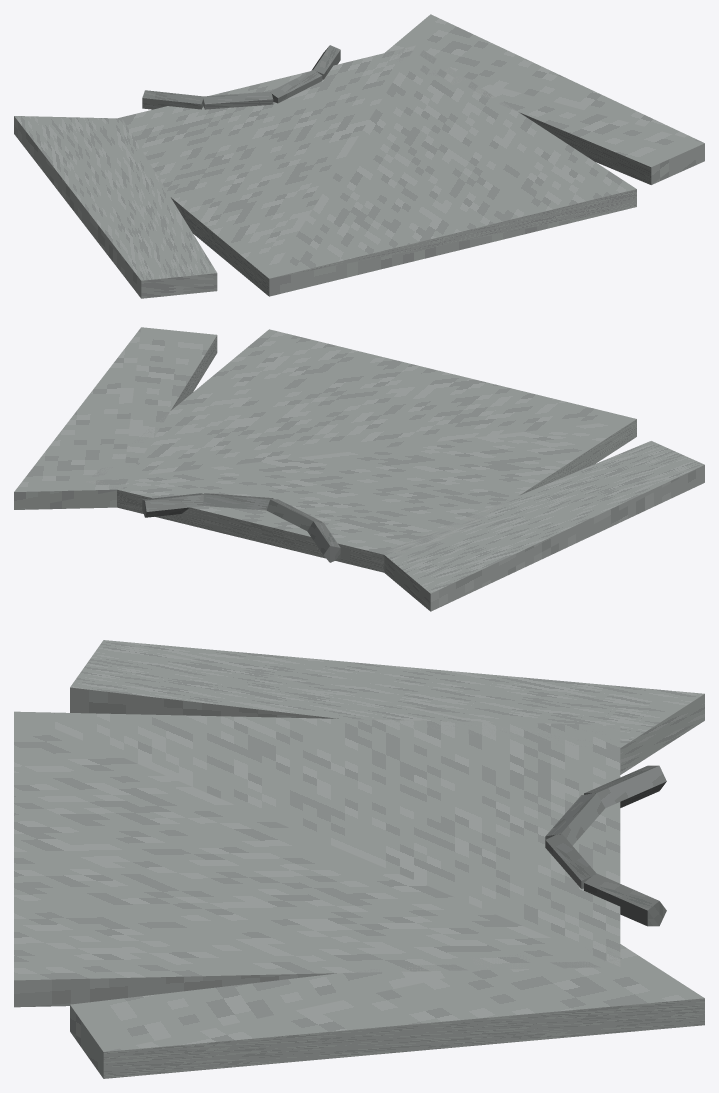
Rendered from technician_shirt_gray.glb.
The picture shows the model from 3 angles, top to bottom: view 1: azimuth 30°, elevation 25°; view 2: azimuth 150°, elevation 25°; view 3: azimuth 270°, elevation 25°; orthographic projection. The views are drawn at different scales.
Visible parts, largest first — view 1: block_shirt torso, block_sleeve or strap -1, block_sleeve or strap 1, block_bound collar 1, block_bound collar 0, block_bound collar 2, block_bound collar 3; view 2: block_shirt torso, block_sleeve or strap -1, block_sleeve or strap 1, block_bound collar 3, block_bound collar 2, block_bound collar 0, block_bound collar 1; view 3: block_shirt torso, block_sleeve or strap 1, block_sleeve or strap -1, block_bound collar 3, block_bound collar 0, block_bound collar 1, block_bound collar 2.
Boxes of the visible parts, x1,y1,x2,y2 form: block_shirt torso: (118, 45, 636, 296); block_sleeve or strap -1: (14, 116, 217, 298); block_sleeve or strap 1: (385, 14, 704, 184); block_bound collar 1: (203, 91, 273, 109); block_bound collar 0: (142, 90, 203, 109); block_bound collar 2: (270, 69, 322, 103); block_bound collar 3: (312, 45, 340, 79); block_shirt torso: (86, 329, 636, 572); block_sleeve or strap -1: (382, 441, 704, 611); block_sleeve or strap 1: (14, 327, 217, 509); block_bound collar 3: (142, 493, 203, 517); block_bound collar 2: (203, 493, 273, 510); block_bound collar 0: (307, 521, 340, 562); block_bound collar 1: (266, 499, 322, 530); block_shirt torso: (14, 711, 620, 1007); block_sleeve or strap 1: (70, 944, 704, 1078); block_sleeve or strap -1: (70, 640, 704, 774); block_bound collar 3: (584, 873, 666, 926); block_bound collar 0: (584, 765, 666, 807); block_bound collar 1: (545, 792, 605, 845); block_bound collar 2: (545, 832, 596, 888).
Size of the model in its own units: 0.1449 by 0.00651 by 0.1027.
1 material, 1 textured.
